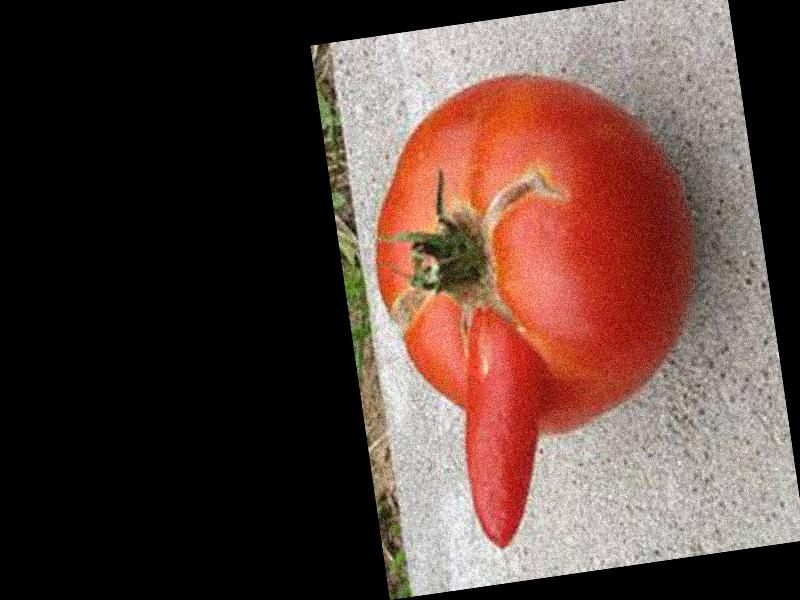Tomato: (350, 51, 707, 456)
